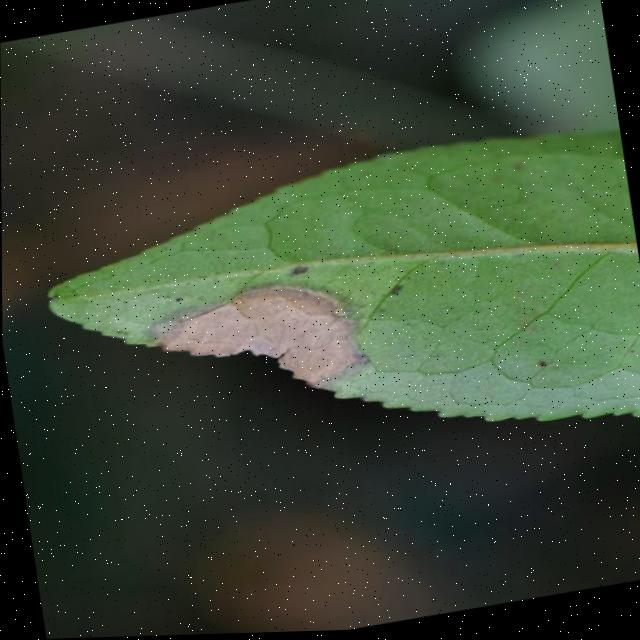Tea cloud leaf blight: (139, 266, 375, 422)
